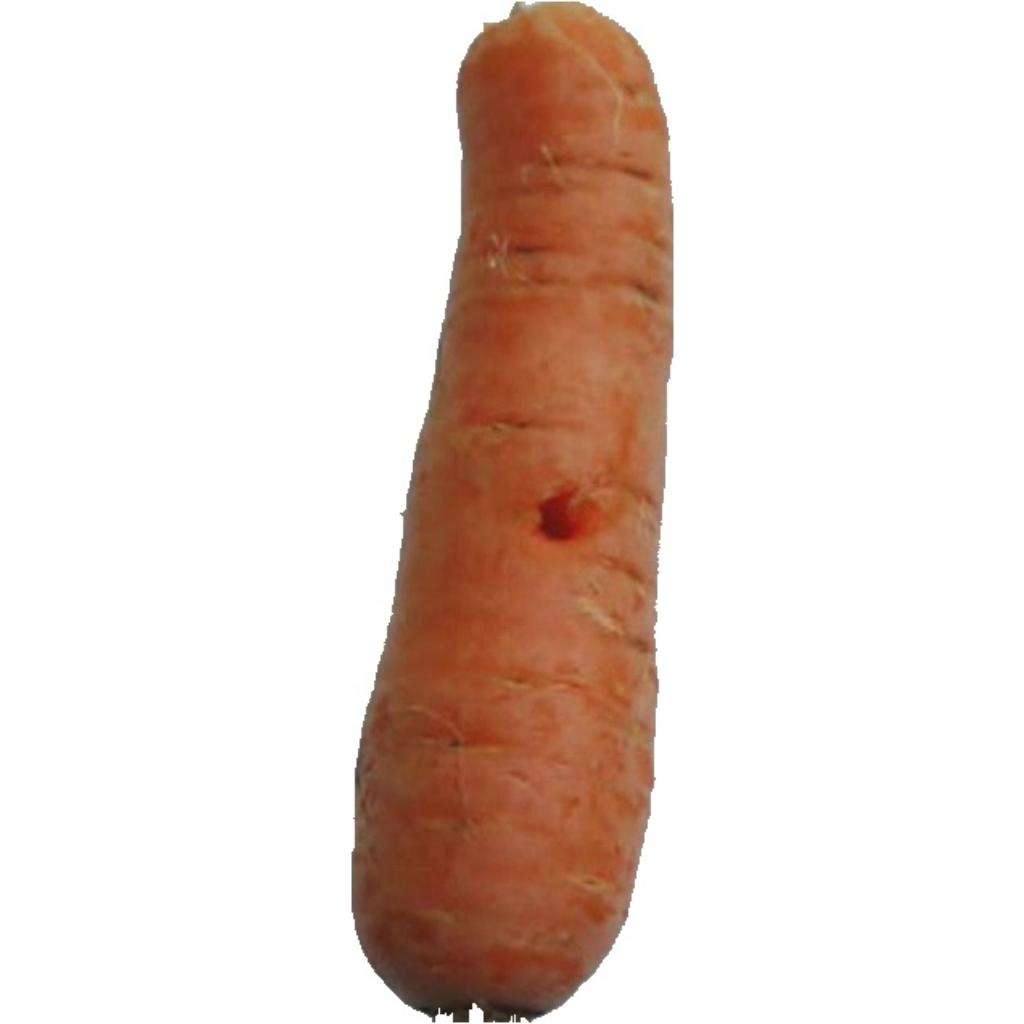carrot: (353, 4, 671, 1017)
